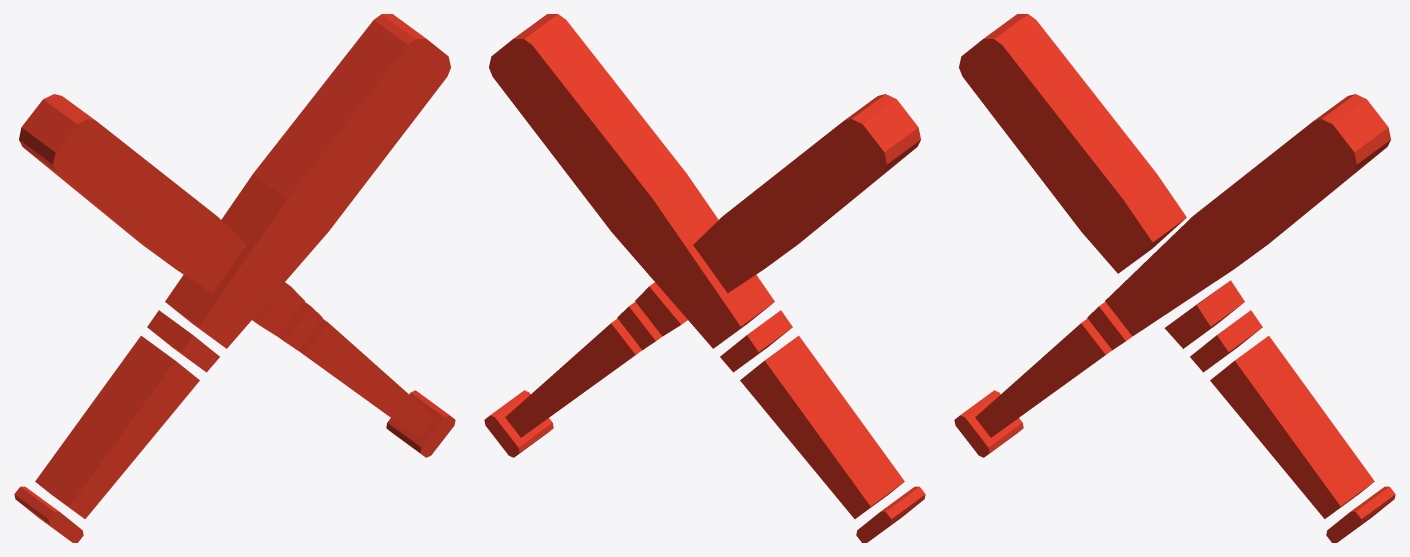
Rendered from Icon_BaseballBat_02.fbx.
3 renders of one model, left to right at view 1: azimuth 30°, elevation 25°; view 2: azimuth 150°, elevation 25°; view 3: azimuth 330°, elevation 25°, orthographic.
Parts seen in each view (by area): view 1: Icon_BaseballBat_02; view 2: Icon_BaseballBat_02; view 3: Icon_BaseballBat_02.
Part boxes in pixels (left/top/right/bottom): Icon_BaseballBat_02: left=14, top=14, right=455, bottom=542; Icon_BaseballBat_02: left=484, top=14, right=925, bottom=542; Icon_BaseballBat_02: left=954, top=14, right=1395, bottom=542.
Bounding box in the file's own units: 82.94 × 82.01 × 12.06.
